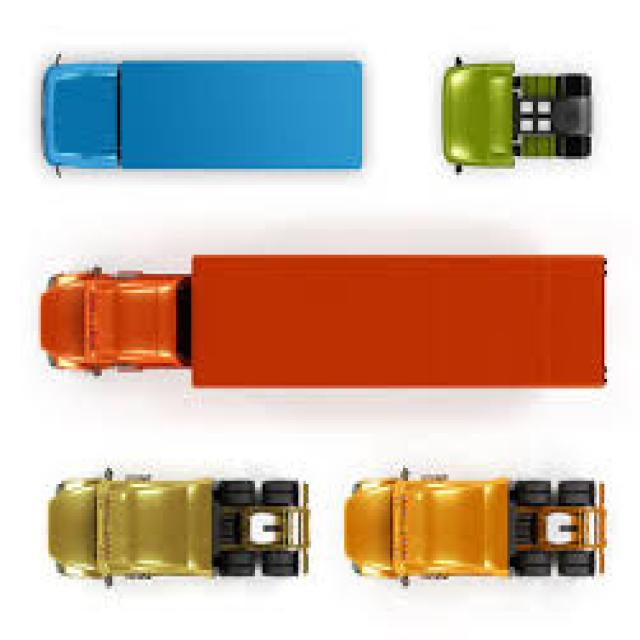truck: (39, 250, 612, 390), (38, 57, 367, 171), (345, 473, 604, 585), (50, 478, 302, 576)
